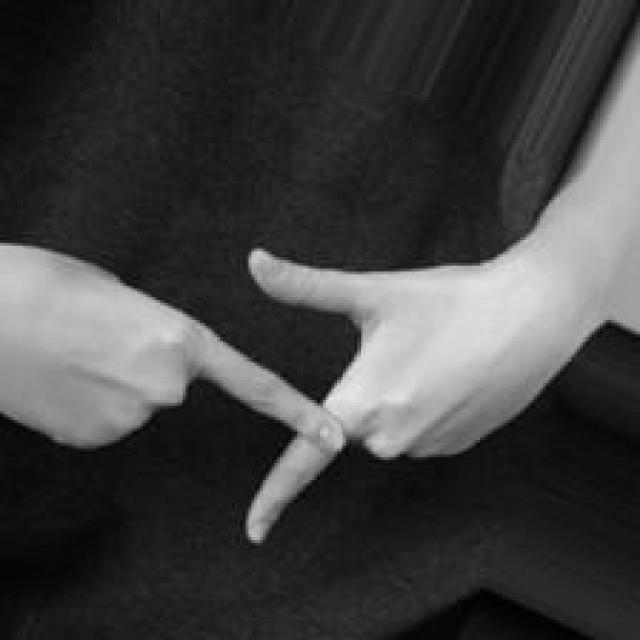F: (0, 215, 587, 551)
